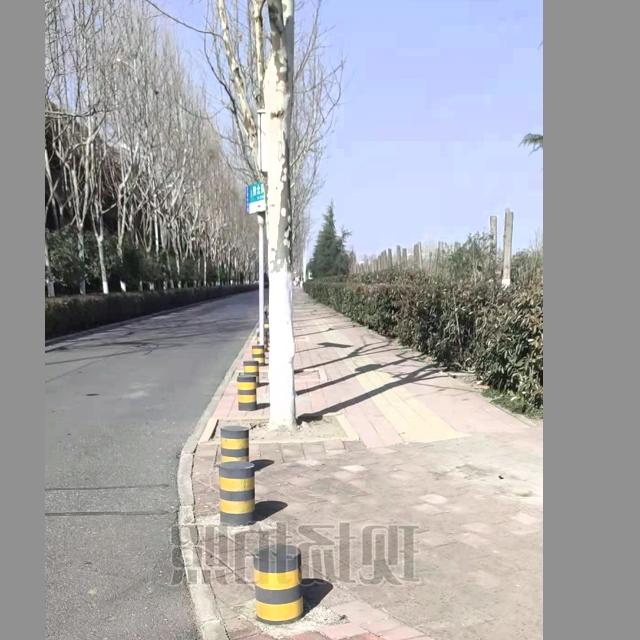circle: (182, 635, 408, 640)
